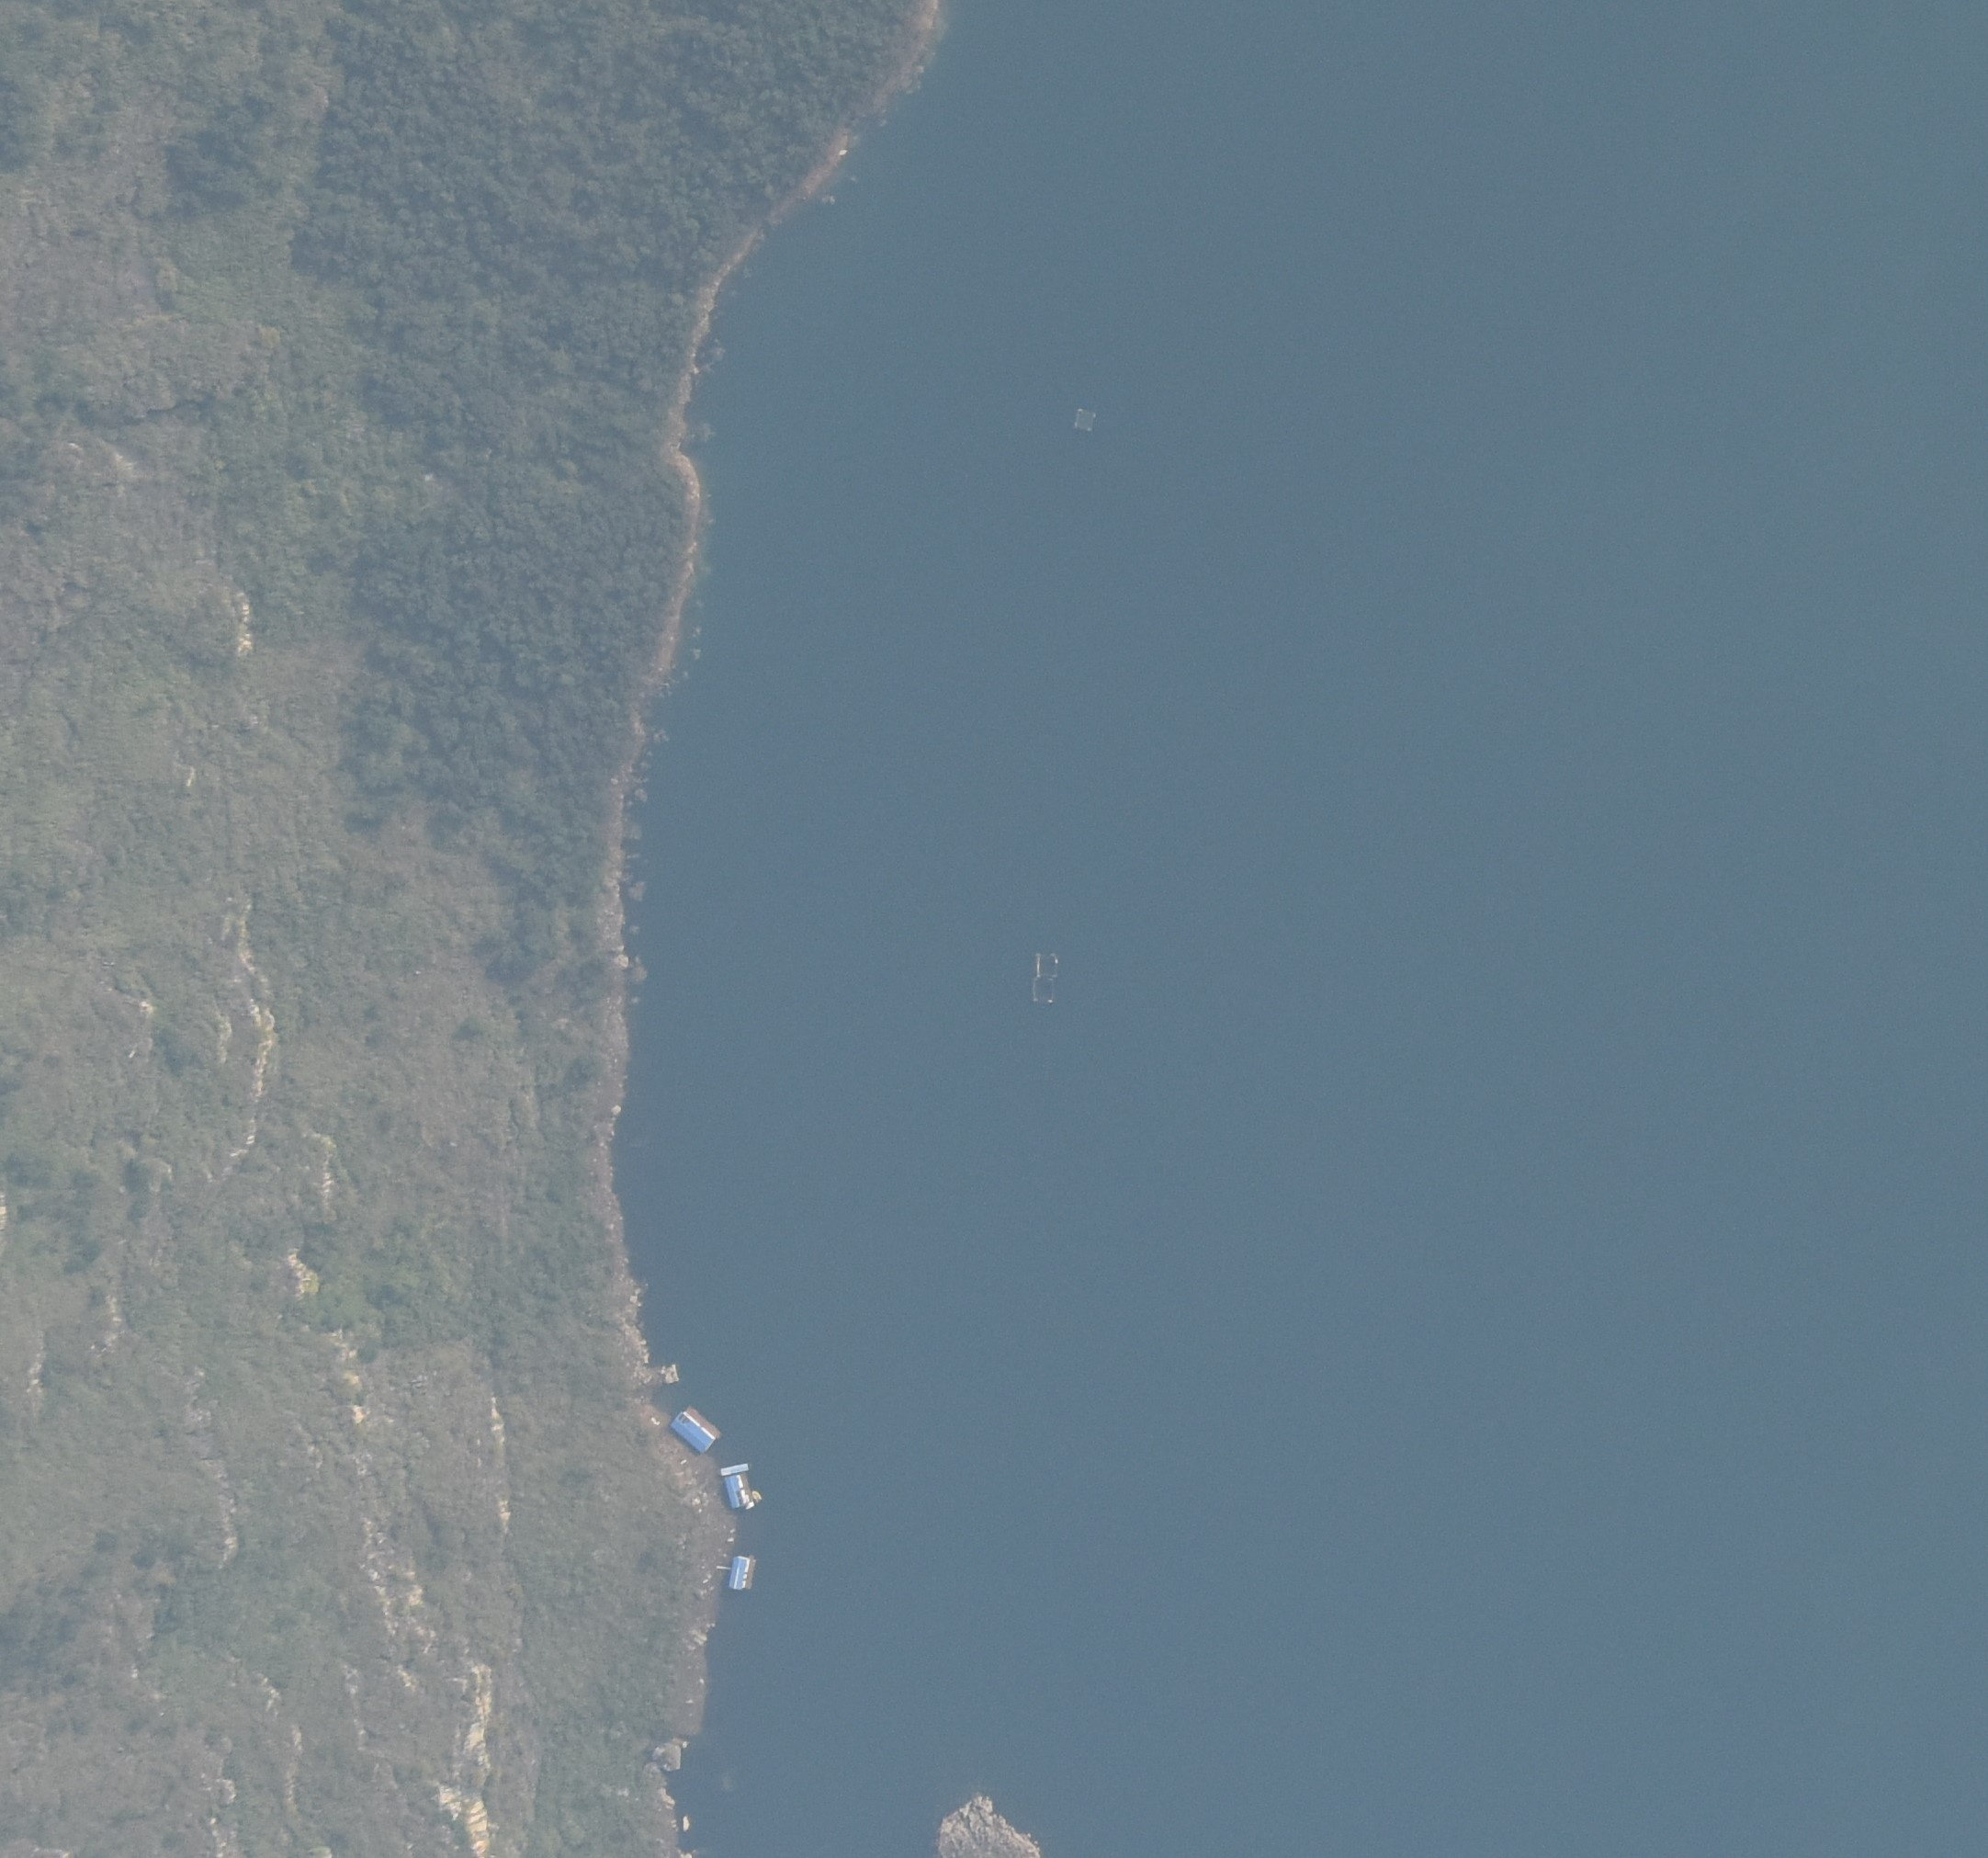cultivation-mesh-cage: (1023, 950, 1063, 1008), (1065, 396, 1100, 437)
prefabricated-house: (670, 1409, 719, 1453), (723, 1474, 757, 1510), (726, 1554, 759, 1591)
ship: (717, 1460, 754, 1477)
